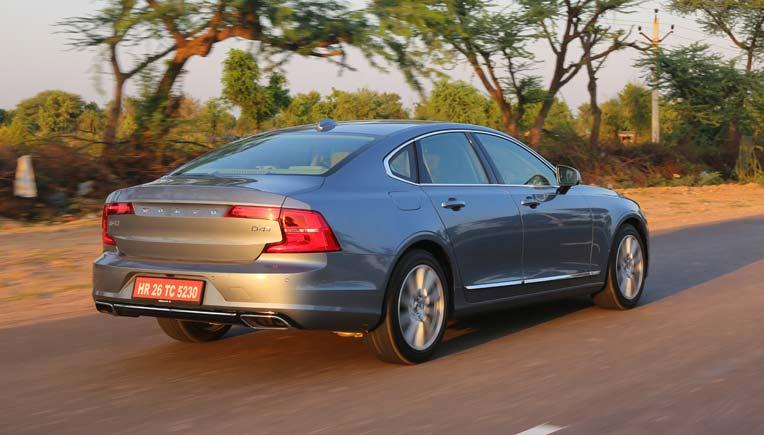car: (66, 74, 672, 394)
